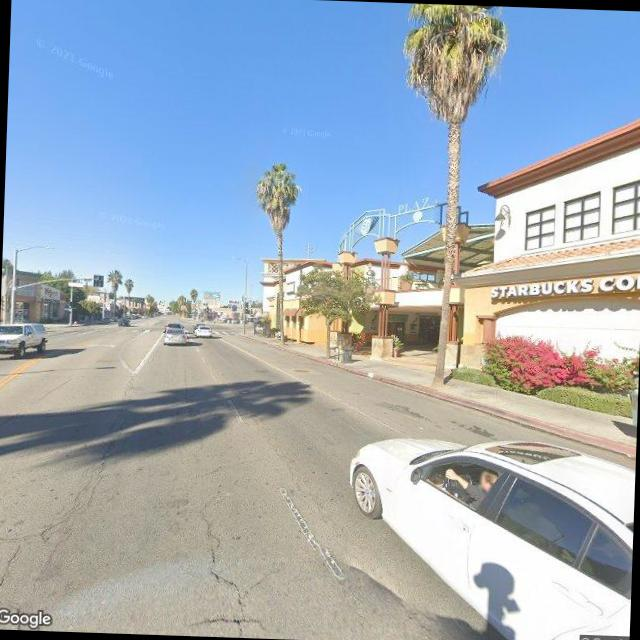crack: (0, 424, 123, 610), (181, 488, 275, 636), (0, 540, 25, 603)
